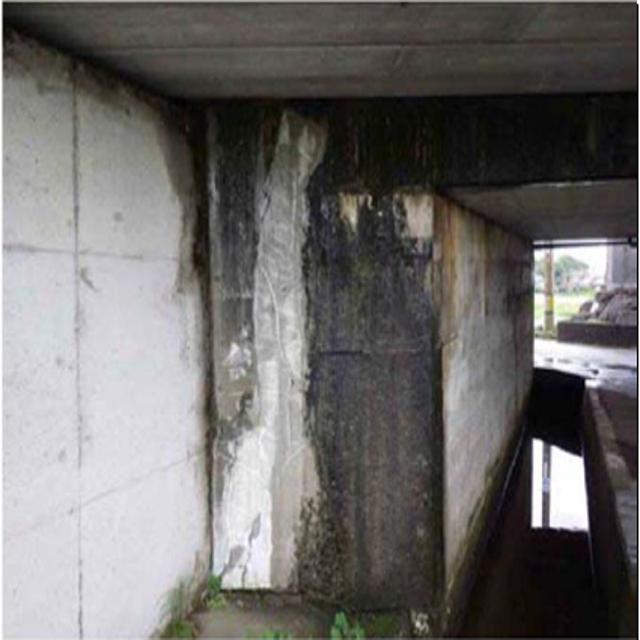leakage: (302, 85, 448, 626), (154, 94, 267, 484)
